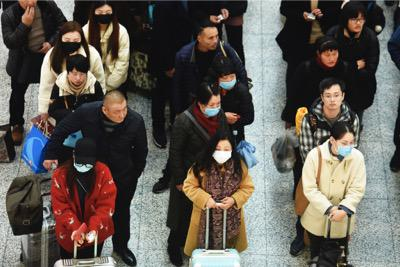with_mask: (211, 144, 232, 165), (335, 138, 355, 157), (218, 73, 238, 91), (202, 99, 221, 117), (61, 36, 81, 53), (94, 9, 112, 26), (72, 162, 92, 173)
without_mask: (322, 90, 343, 111), (319, 49, 338, 67), (109, 105, 127, 124), (202, 32, 219, 50), (348, 15, 364, 33), (68, 71, 85, 85)
